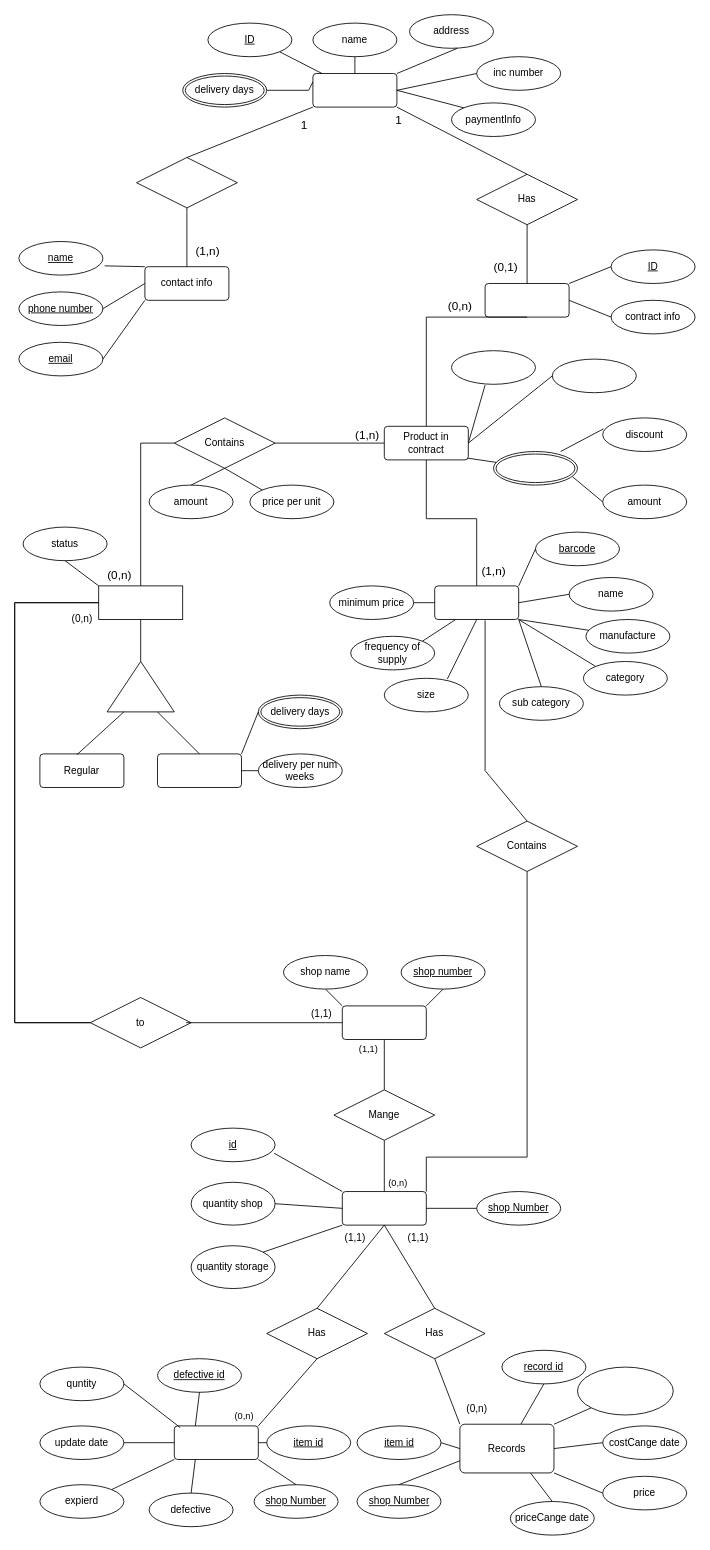
Image size: 710x1550. Some labels were removed from this diagram. Here are the shapes that lost their labels. From the top down, the centre of each, then its label:
[354,90]: Supplier
[186,182]: Has conacts
[526,300]: Contract
[493,367]: catalog number
[593,375]: original price
[535,468]: Attribute
[140,602]: Order
[476,602]: Product
[140,686]: XT
[199,770]: Periodical
[383,1022]: Invemtory
[383,1208]: Item
[625,1390]: cost
[215,1442]: Defectives
